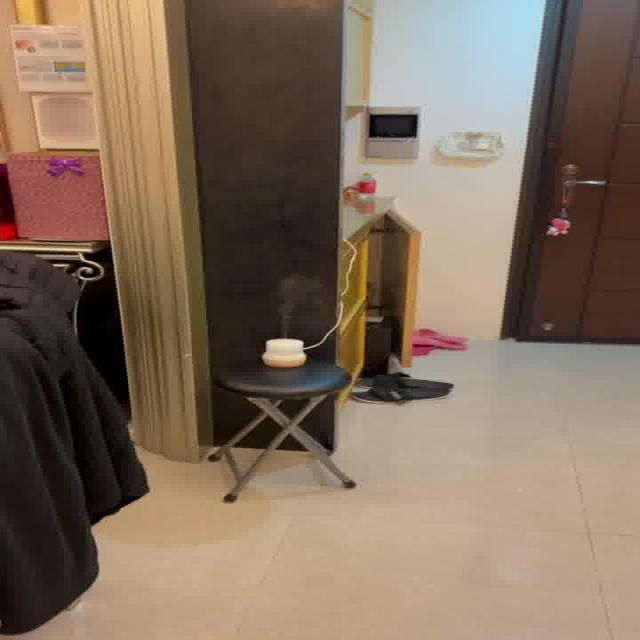fire: (270, 270, 329, 334)
